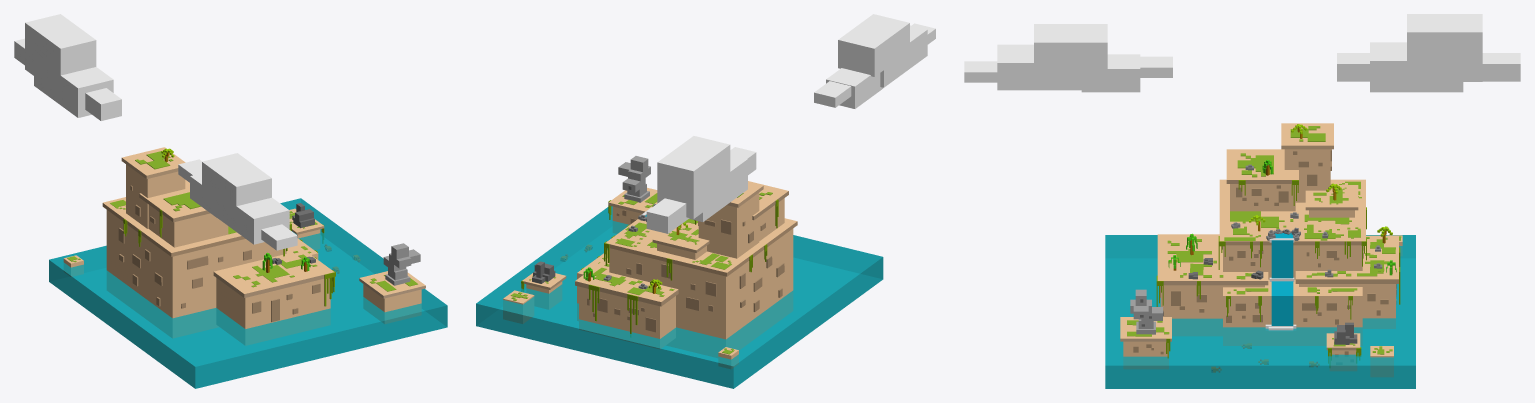
The model's file is tropical_voxel_island.glb.
3 renders of one model, left to right at view 1: azimuth 30°, elevation 25°; view 2: azimuth 150°, elevation 25°; view 3: azimuth 270°, elevation 25°, orthographic. The views are drawn at different scales.
Visible parts, largest first — view 1: polySurface664; view 2: polySurface664; view 3: polySurface664.
Part boxes in pixels (x1,y1,x2,y2): polySurface664: (14, 14, 447, 388); polySurface664: (476, 14, 935, 388); polySurface664: (964, 14, 1520, 388).
Bounding box in the file's own units: 19.53 × 17.33 × 35.18.
